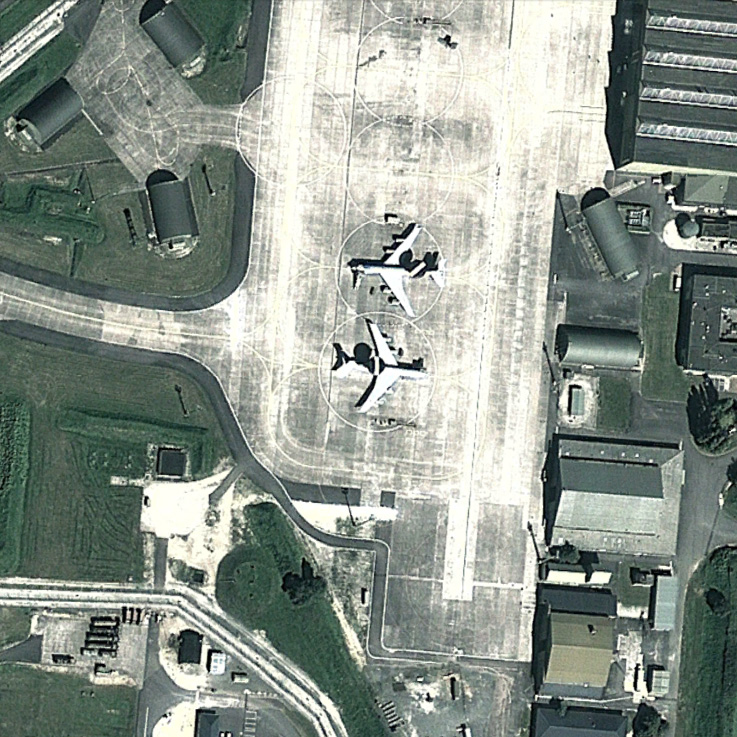A7: (347, 222, 449, 318), (337, 321, 436, 416)
